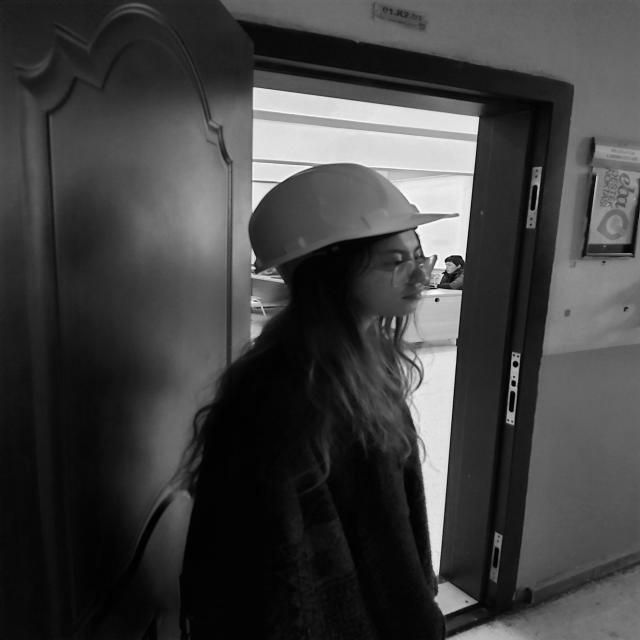construction helmet: (248, 164, 457, 274)
